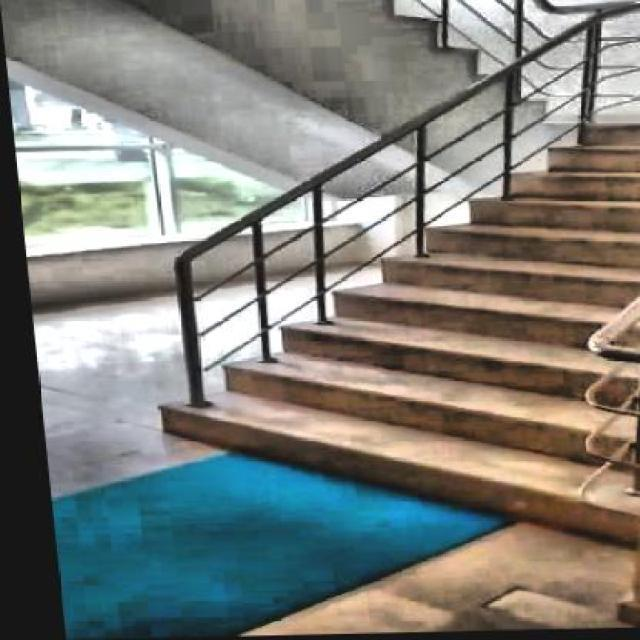stair: (126, 89, 639, 560)
